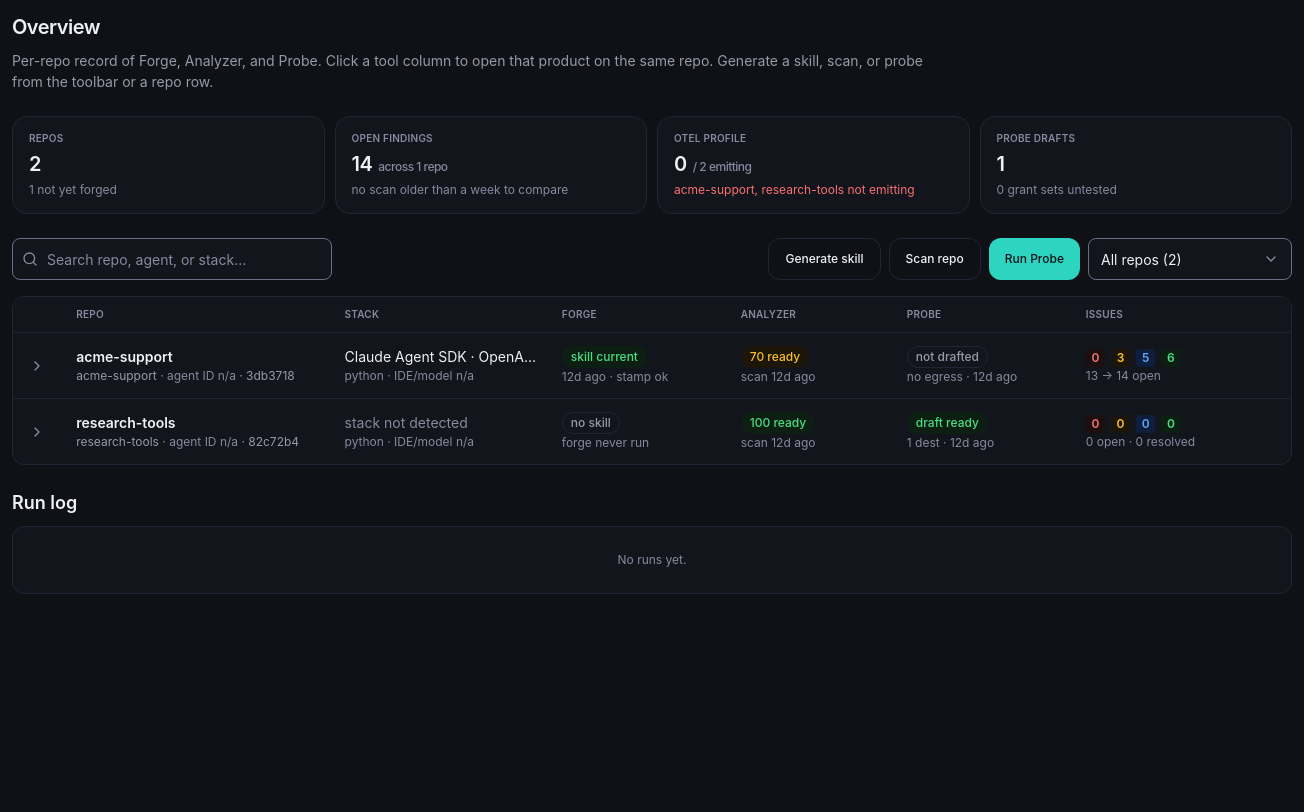
it: Overview › filters with a count per filter
The image size is (1304, 812).
Select "Stale or missing tool (1)" in the dropdown named "Filter repos" at [1190, 259], box [1088,238,1292,280]
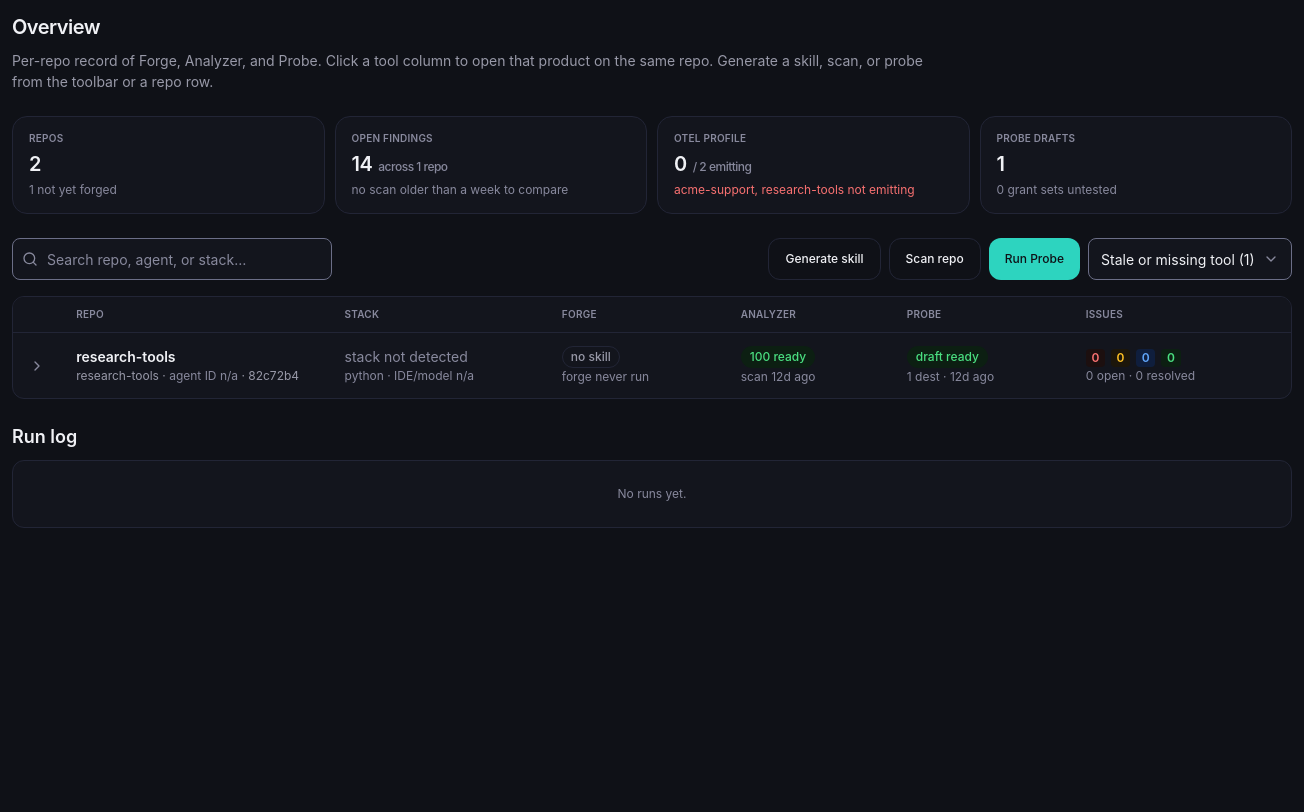
Expected: the row with test id "overview-row-research-tools" is shown, [13,332,1291,398]
Now the row with test id "overview-row-acme-support" is gone
Select "Has open findings (1)" in the dropdown named "Filter repos" at [1190, 259], box [1088,238,1292,280]
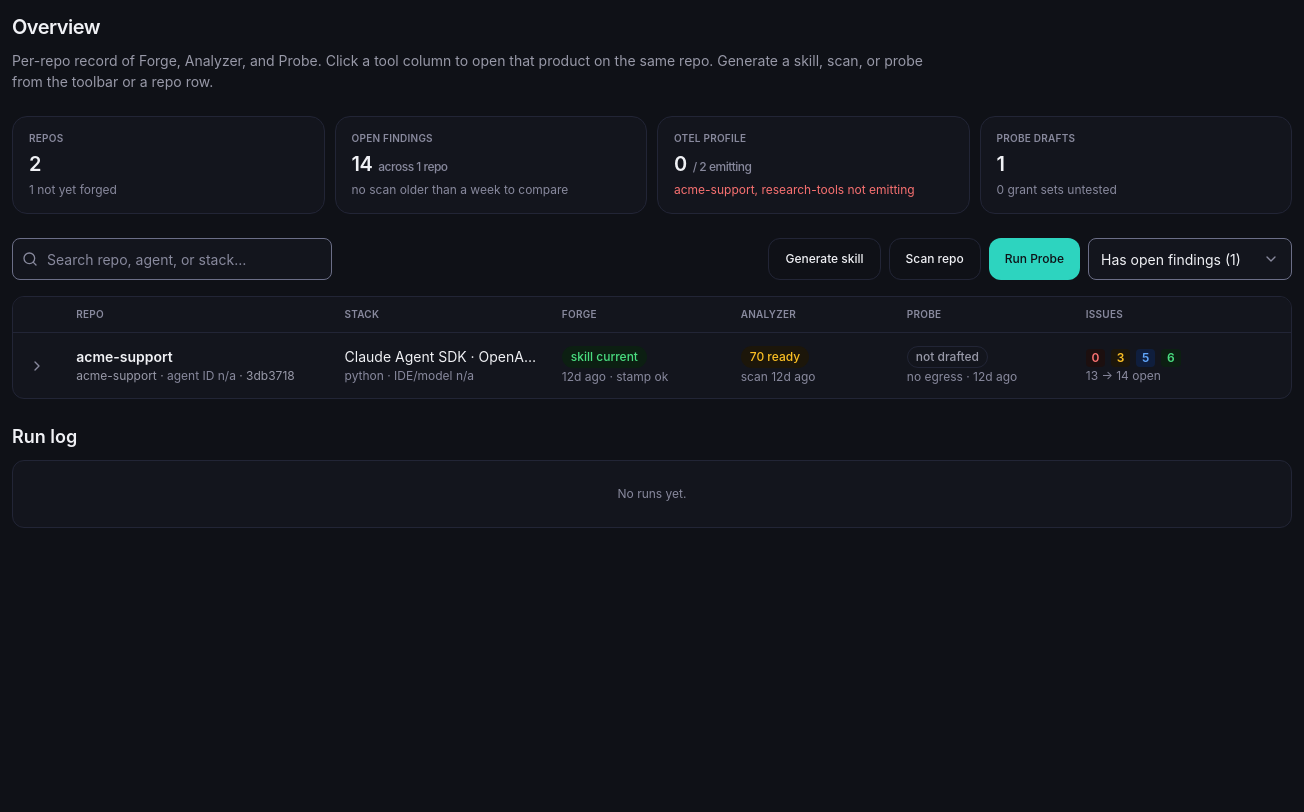
Now the row with test id "overview-row-acme-support" is shown, box [13,332,1291,398]
Now the row with test id "overview-row-research-tools" is gone
